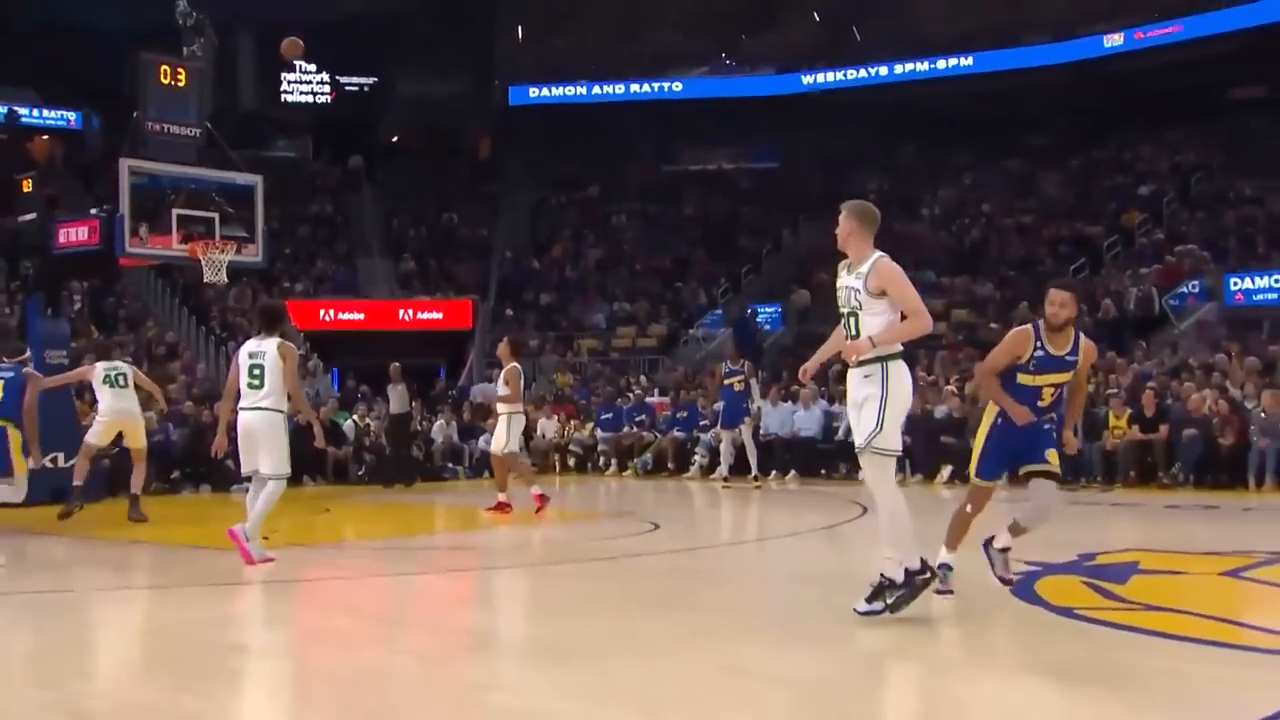ball: (276, 30, 309, 68)
net: (194, 236, 239, 285)
